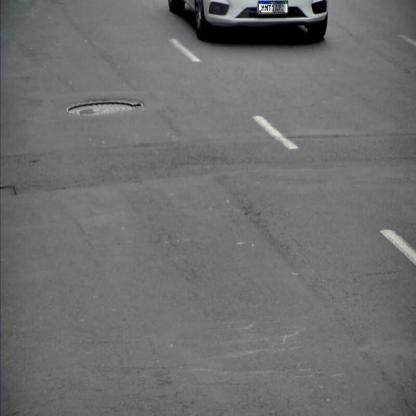PlacaM: (259, 1, 288, 13)
